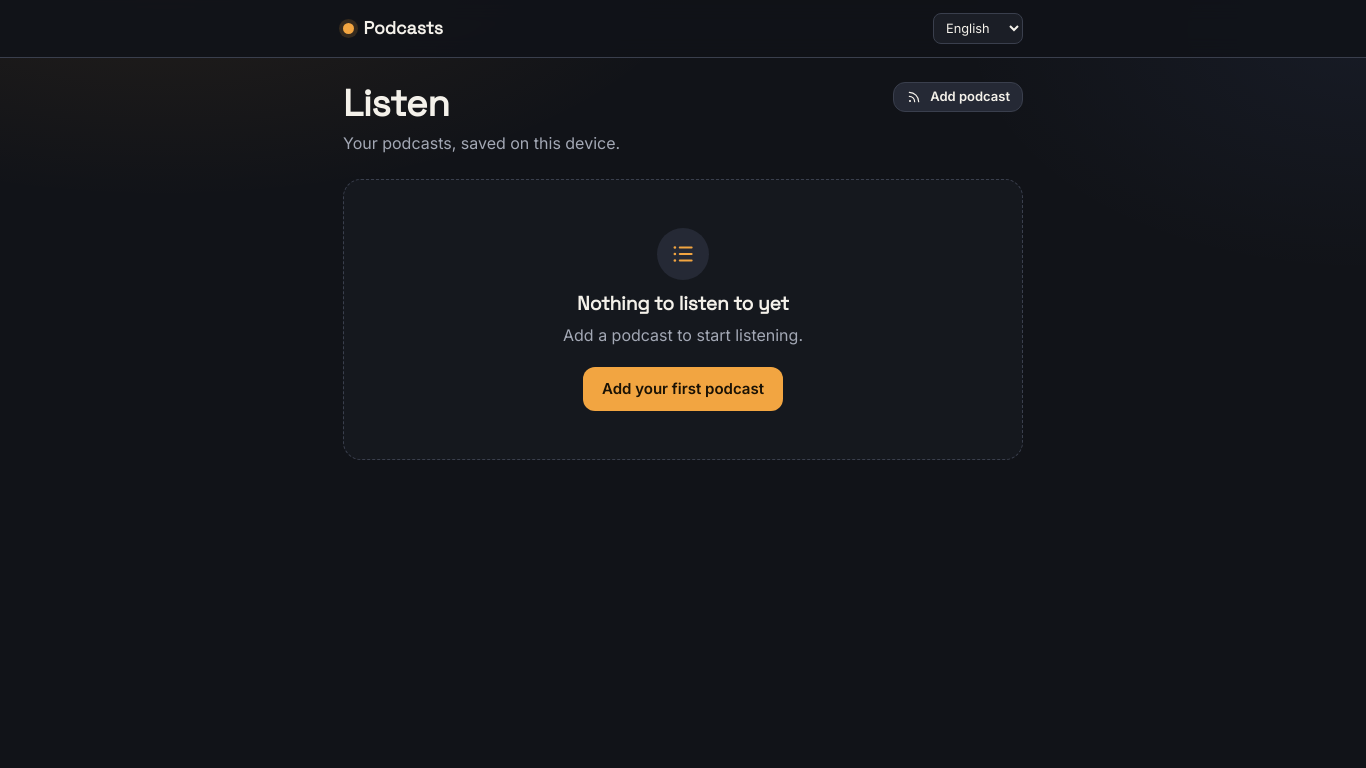
Test: library › shows an error when the URL is not a podcast feed
Click the button "Add podcast": (958, 97) [893, 82, 1023, 112]
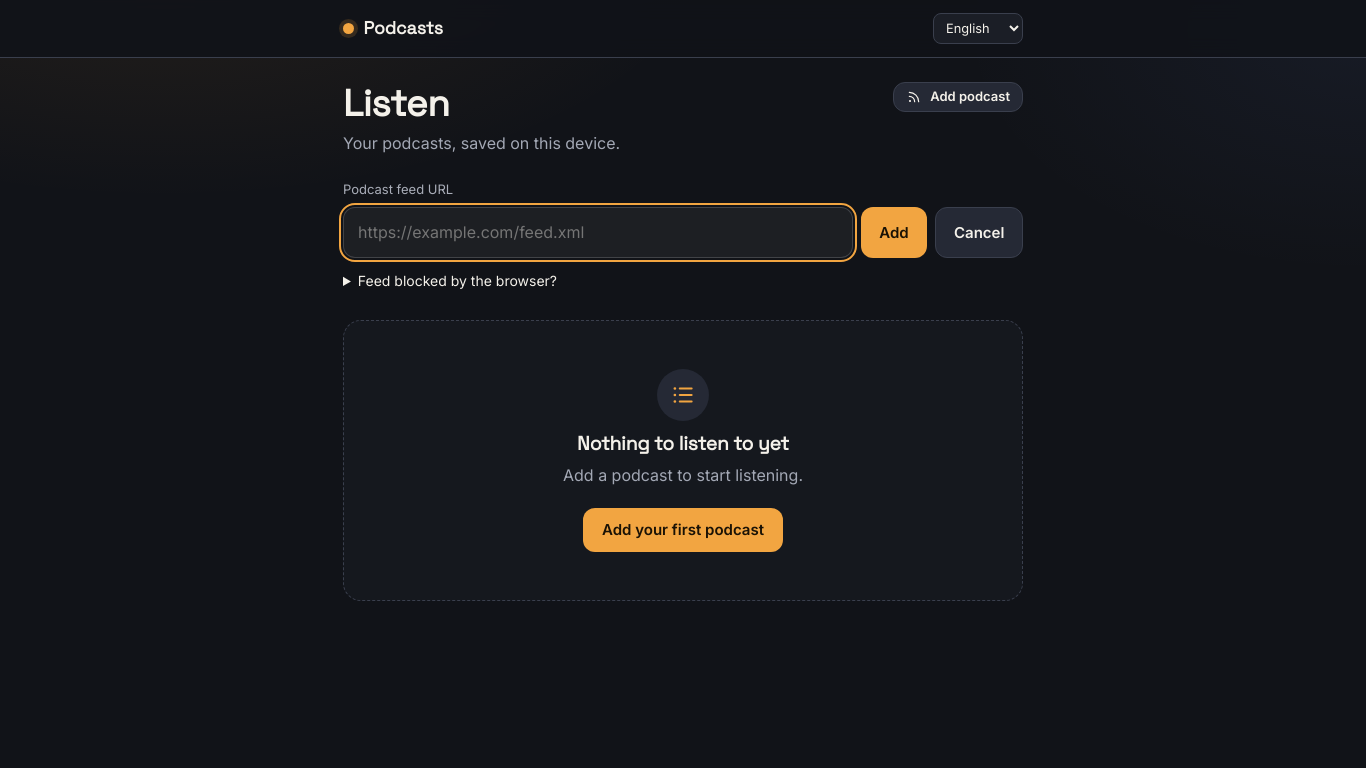
In the field labelled "Podcast feed URL": (598, 233) [343, 208, 853, 258], type "https://feeds.example/bad.xml"
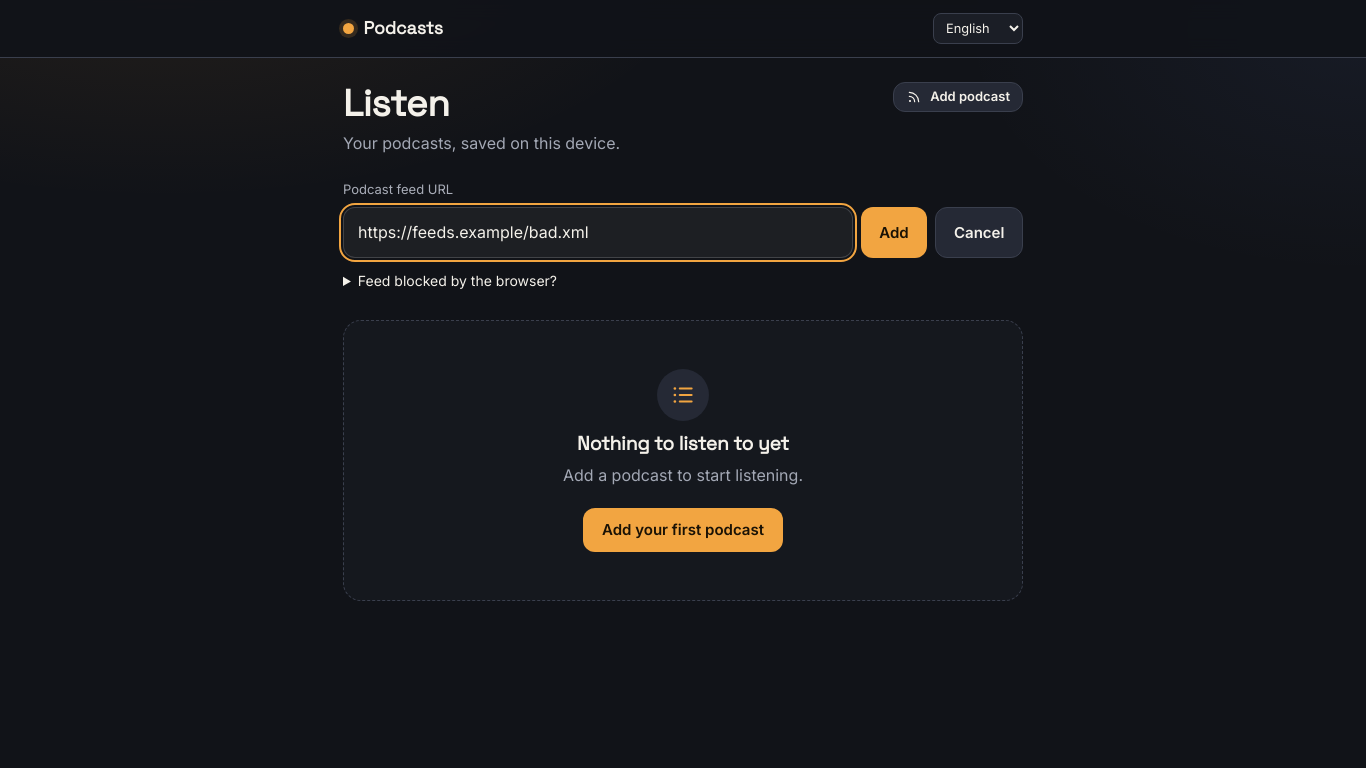
Click the button "Add": (894, 233) [861, 208, 927, 258]
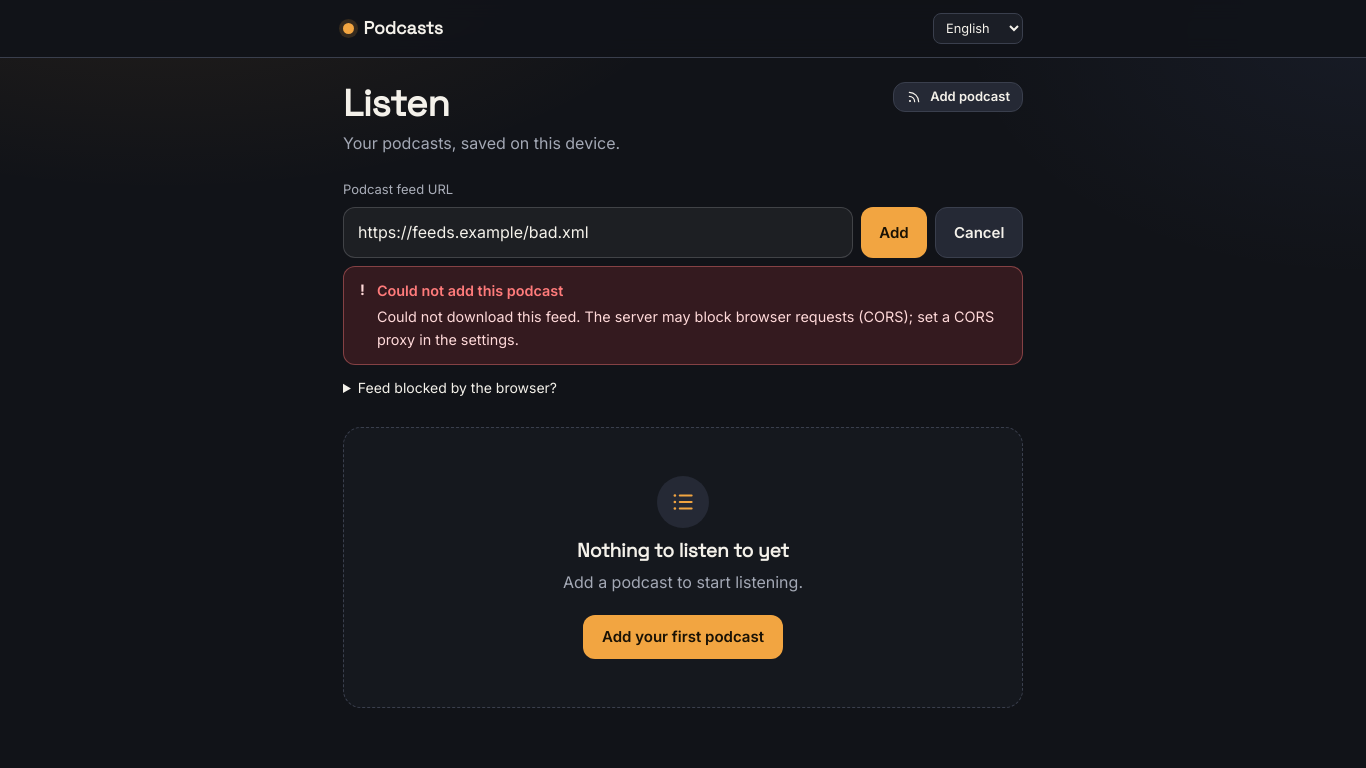
Now the text "Could not add this podcast" is shown, box [377, 282, 563, 299]
